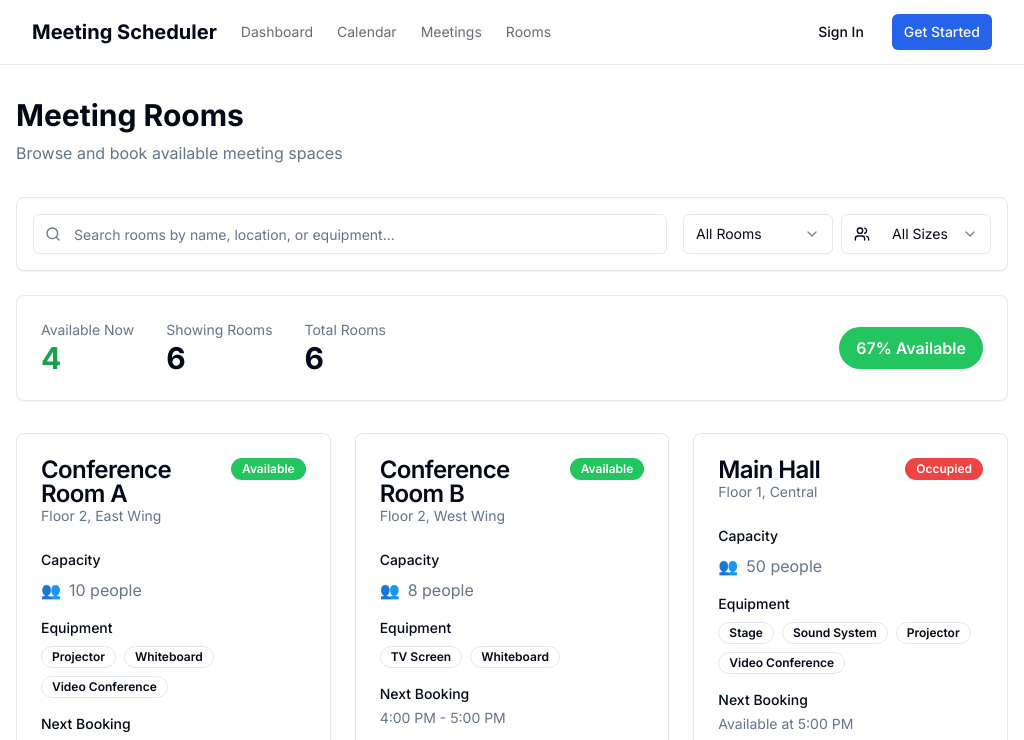
Test: RoomsPage › clears filters when Clear Filters button is clicked
This screenshot has width=1024, height=740.
In the field with placeholder "Search rooms by name, location, or equipment...": [350, 234] box [33,214,667,254], type "NonexistentRoom12345"
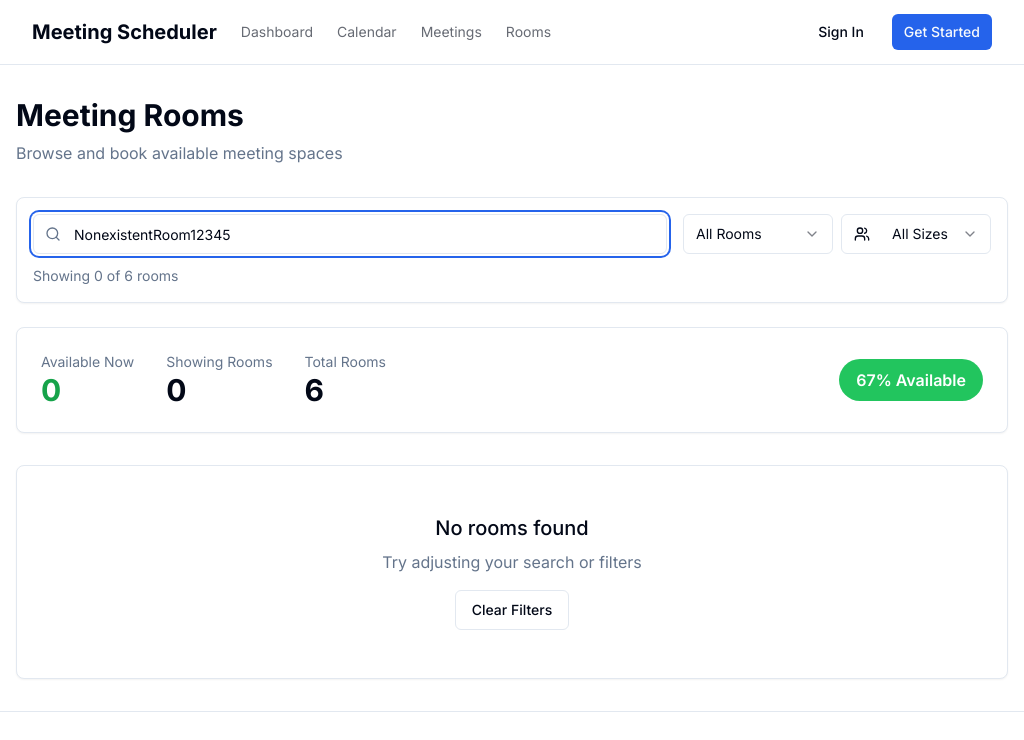
Click the button "Clear Filters": [512, 610] box [455,590,569,630]
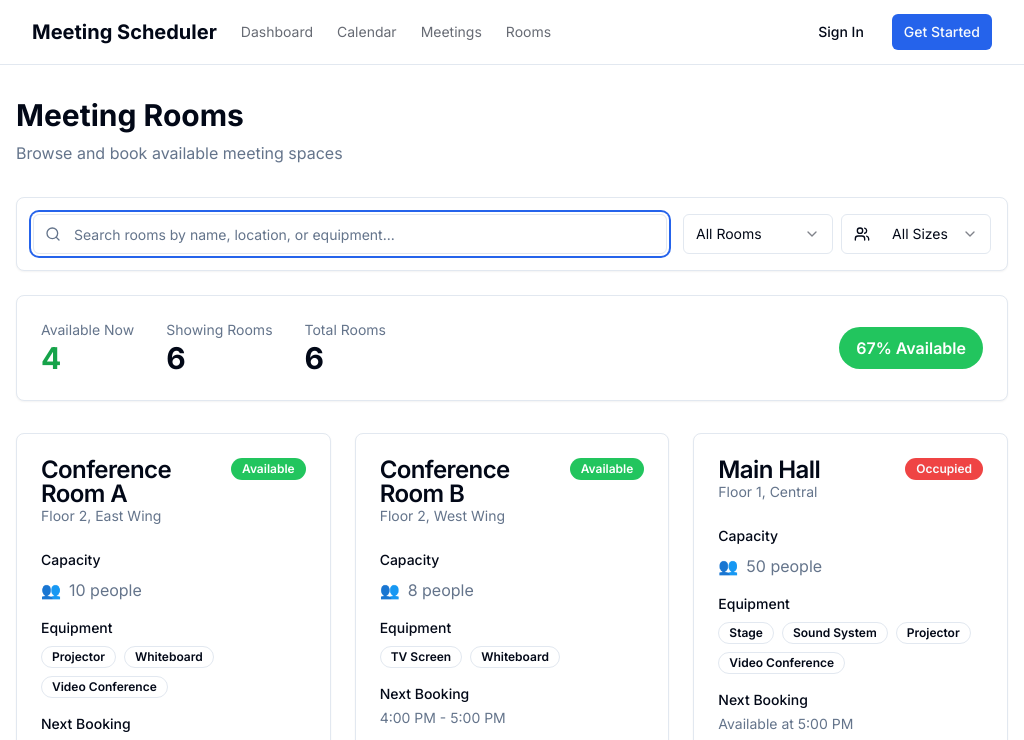
Check: the heading "Conference Room A" is shown, box [41,455,171,508]
